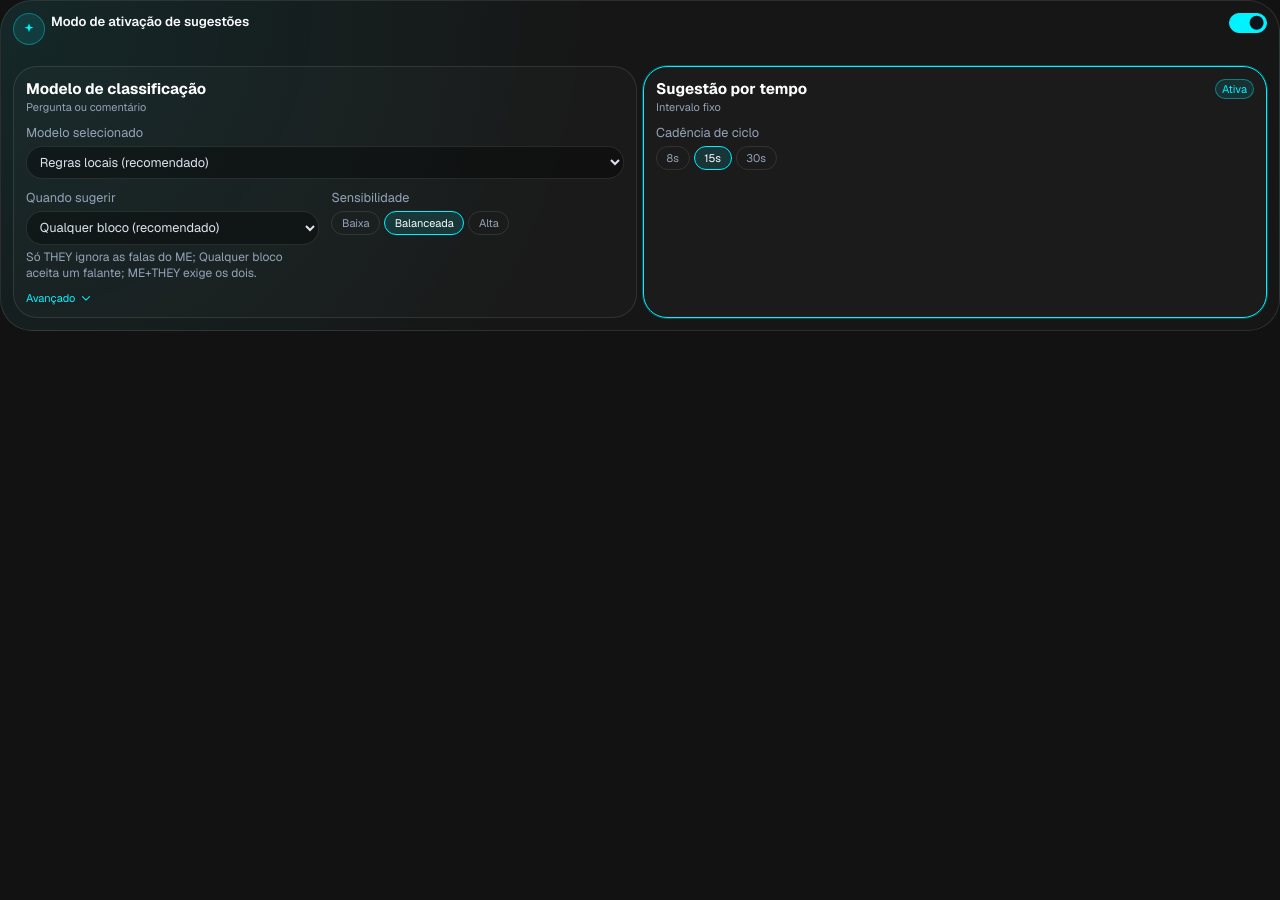
Test: SuggestionsActivationBlock › abre o avançado e mostra os campos
The width and height of the screenshot is (1280, 900).
Click the heading "Modelo de classificação".
click(116, 88)  # box [26,79,206,98]
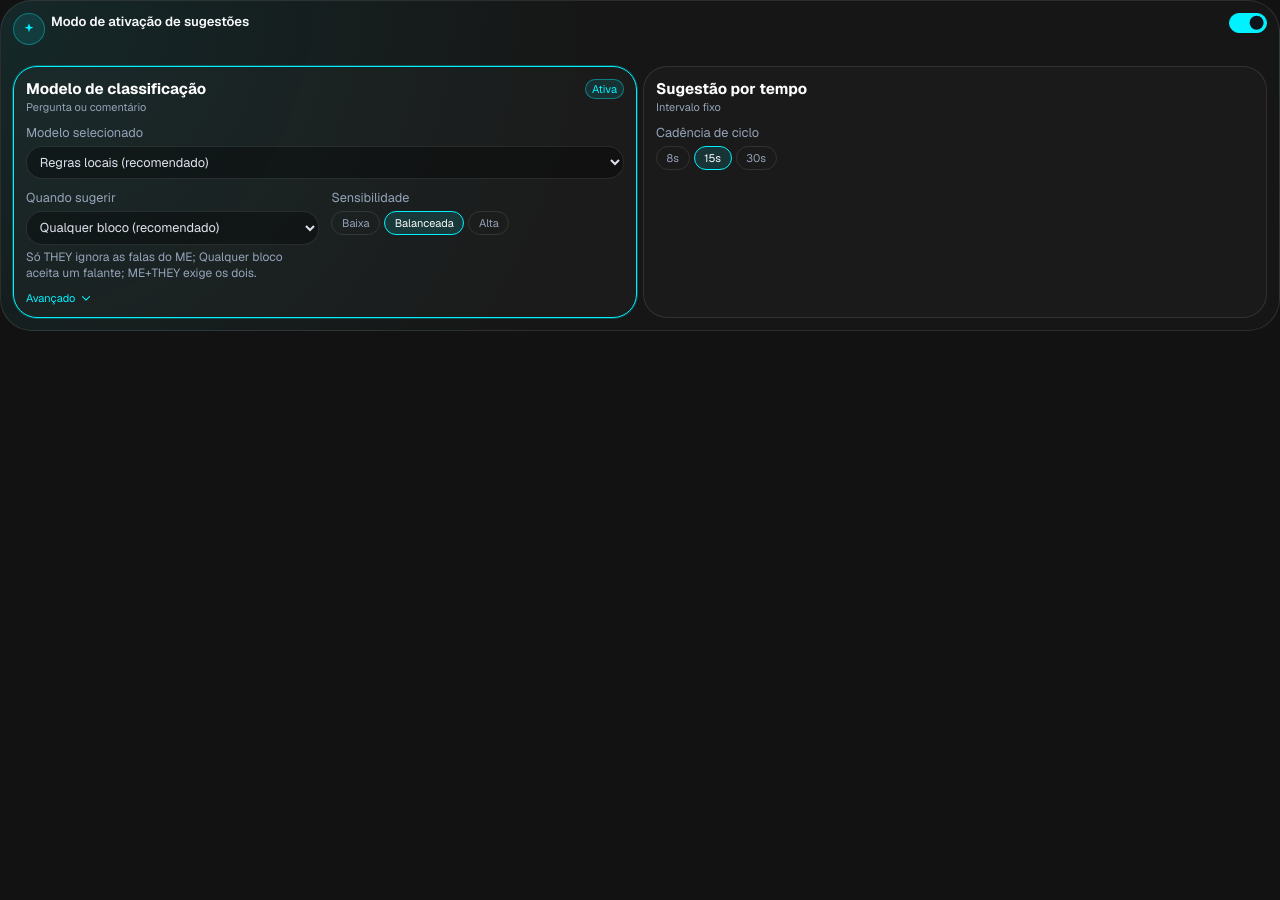
Click the button "Avançado".
click(60, 298)  # box [26,291,93,305]
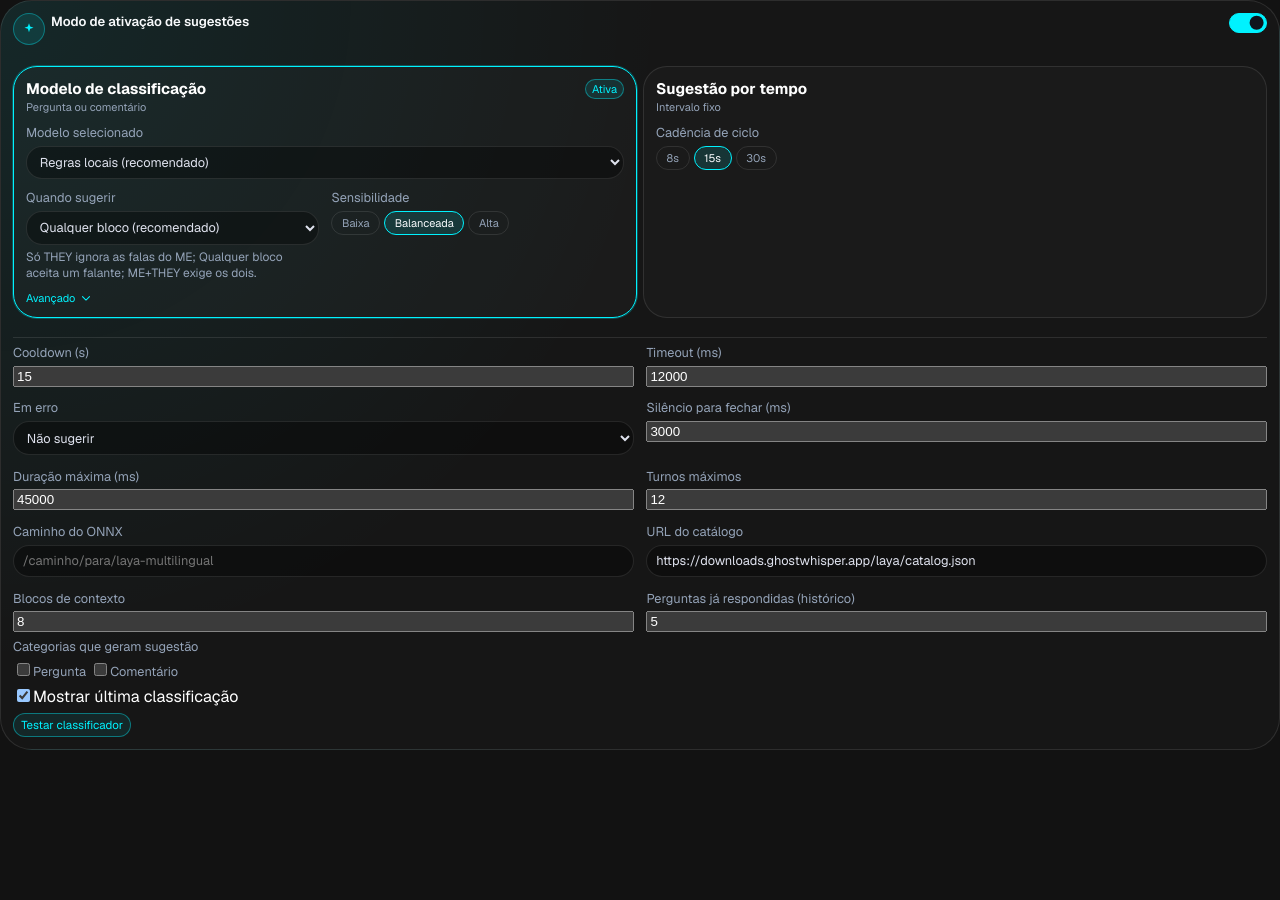
Expected: the text "Cooldown (s)" is shown, [13,344,89,361]
Expected: the text "Categorias que geram sugestão" is shown, [13,638,198,656]
Expected: the button "Testar classificador" is shown, [13,713,131,737]
